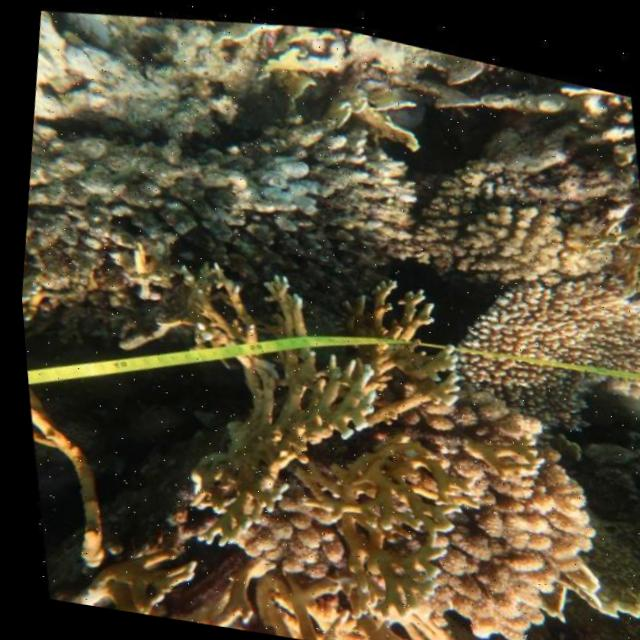Healthy Coral: (130, 231, 631, 640)
